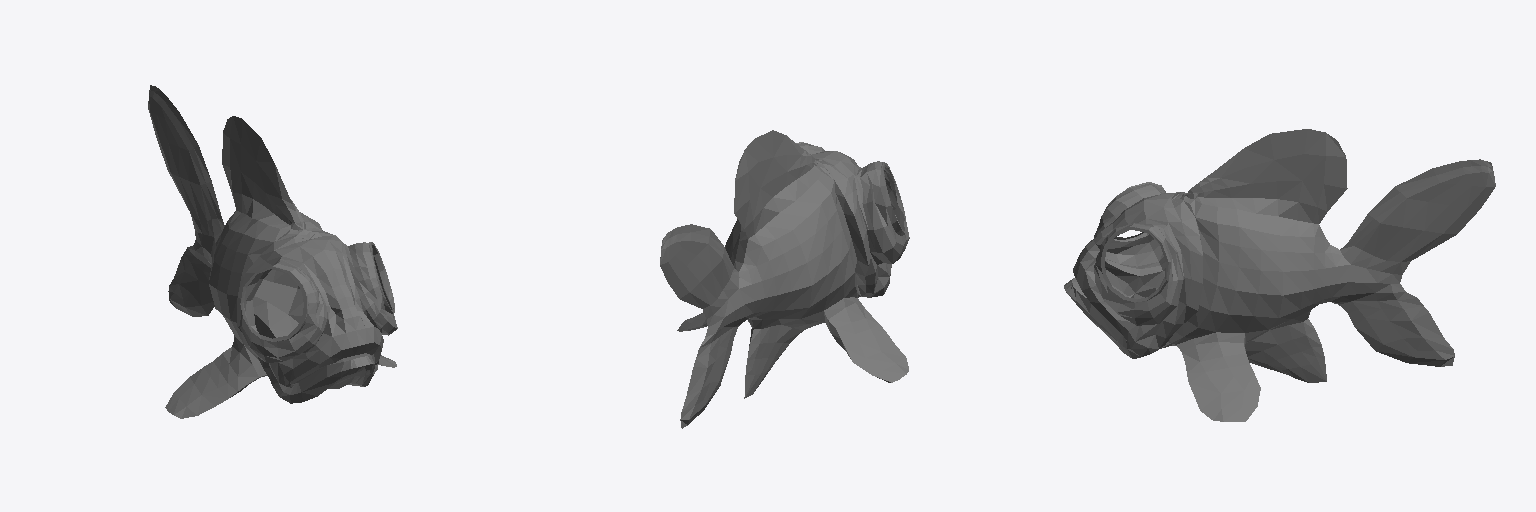
The model's file is FishFix.obj.
The picture shows the model from 3 angles: view 1: azimuth 30°, elevation 25°; view 2: azimuth 150°, elevation 25°; view 3: azimuth 270°, elevation 25°; orthographic projection.
Parts seen in each view (by area): view 1: FishMesh; view 2: FishMesh; view 3: FishMesh.
Part boxes in pixels (bbox=[...]): FishMesh: bbox=[148, 85, 397, 418]; FishMesh: bbox=[660, 130, 909, 428]; FishMesh: bbox=[1064, 129, 1495, 421].
Size of the model in its own units: 5.2 by 5.71 by 8.78.